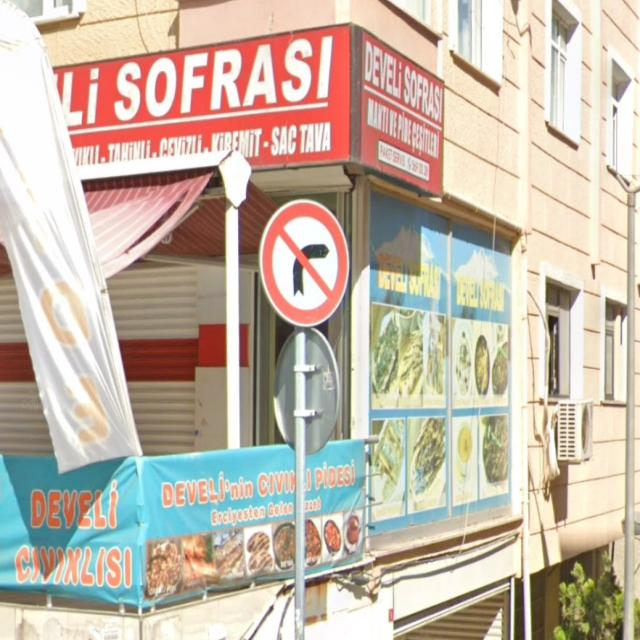sagadonulmez: (260, 200, 350, 328)
